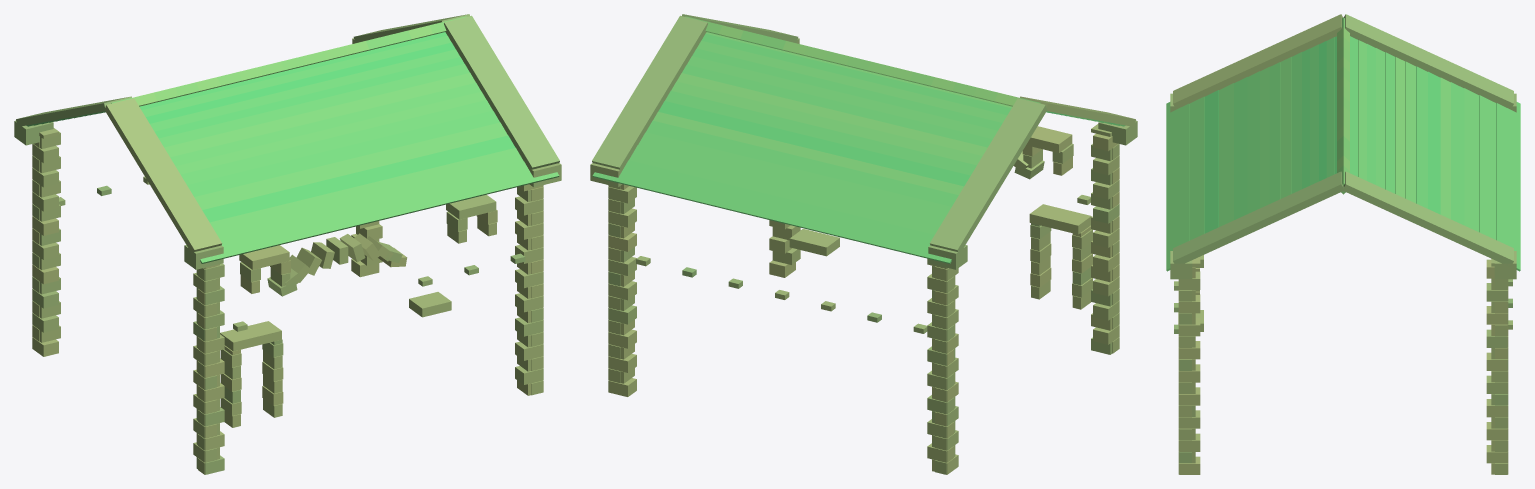
Rendered from SM_Bld_237_Stone.glb.
The picture shows the model from 3 angles, left to right: view 1: azimuth 30°, elevation 25°; view 2: azimuth 150°, elevation 25°; view 3: azimuth 270°, elevation 25°; orthographic projection. The views are drawn at different scales.
Parts seen in each view (by area): view 1: SM_Bld_237_Stone; view 2: SM_Bld_237_Stone; view 3: SM_Bld_237_Stone.
Boxes of the visible parts, x1,y1,x2,y2 form: SM_Bld_237_Stone: [14, 14, 561, 474]; SM_Bld_237_Stone: [590, 14, 1137, 474]; SM_Bld_237_Stone: [1166, 14, 1520, 474].
Size of the model in its own units: 9.48 by 7.71 by 8.34.
